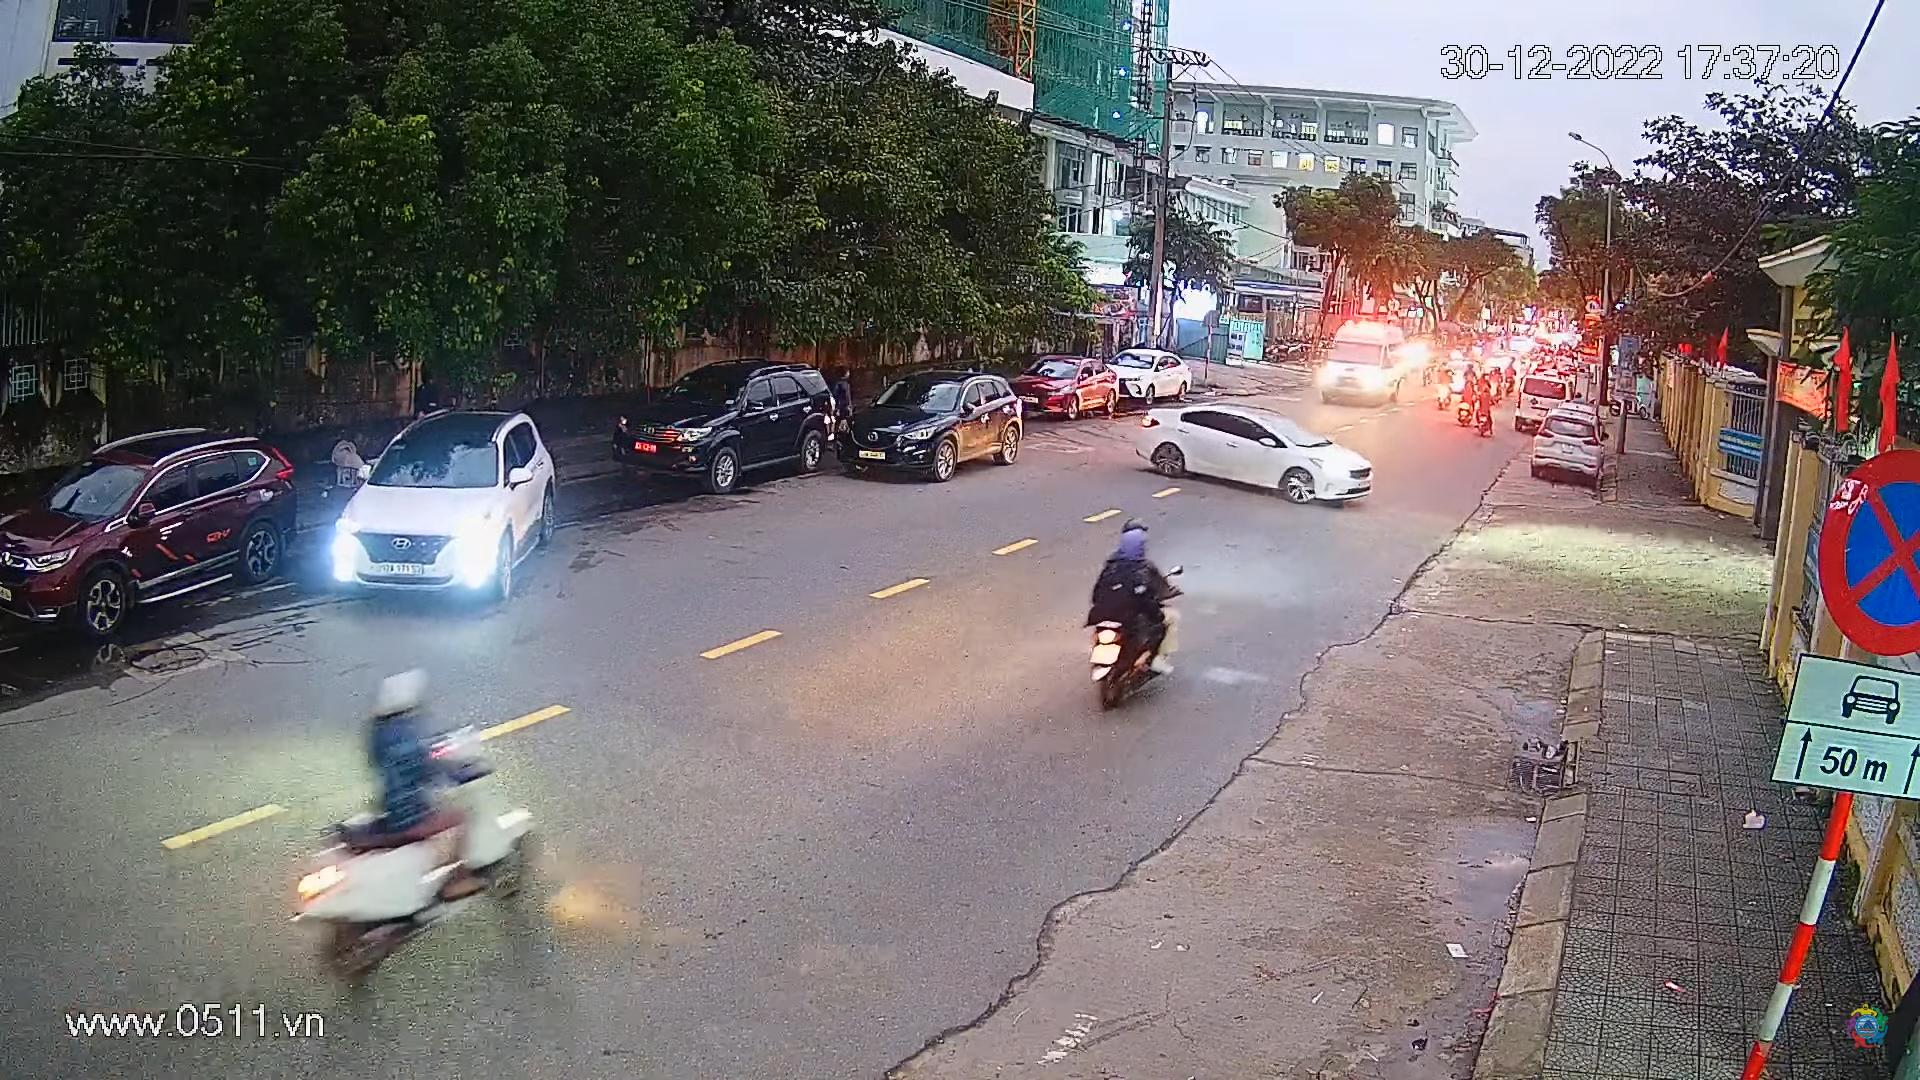ambulance: (1307, 307, 1418, 417)
car: (0, 419, 301, 640), (324, 404, 564, 608), (1116, 393, 1377, 516), (607, 364, 844, 498), (845, 365, 1027, 484), (1011, 355, 1118, 421), (1104, 347, 1195, 406)
